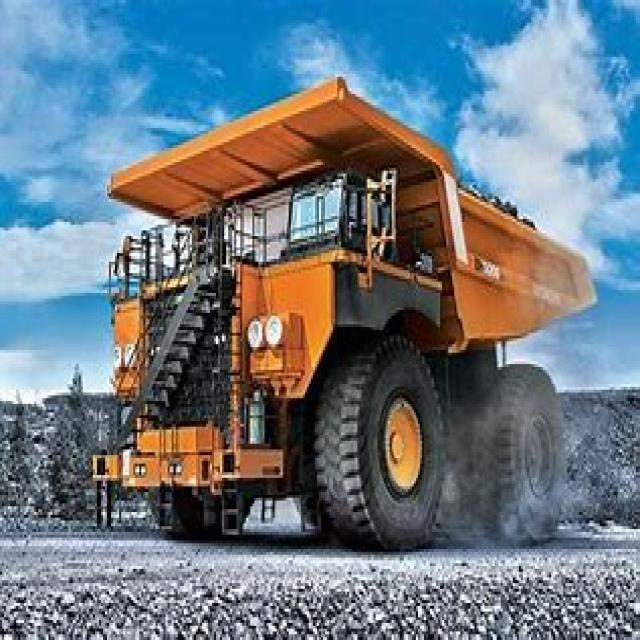dump_truck: (91, 97, 565, 566)
